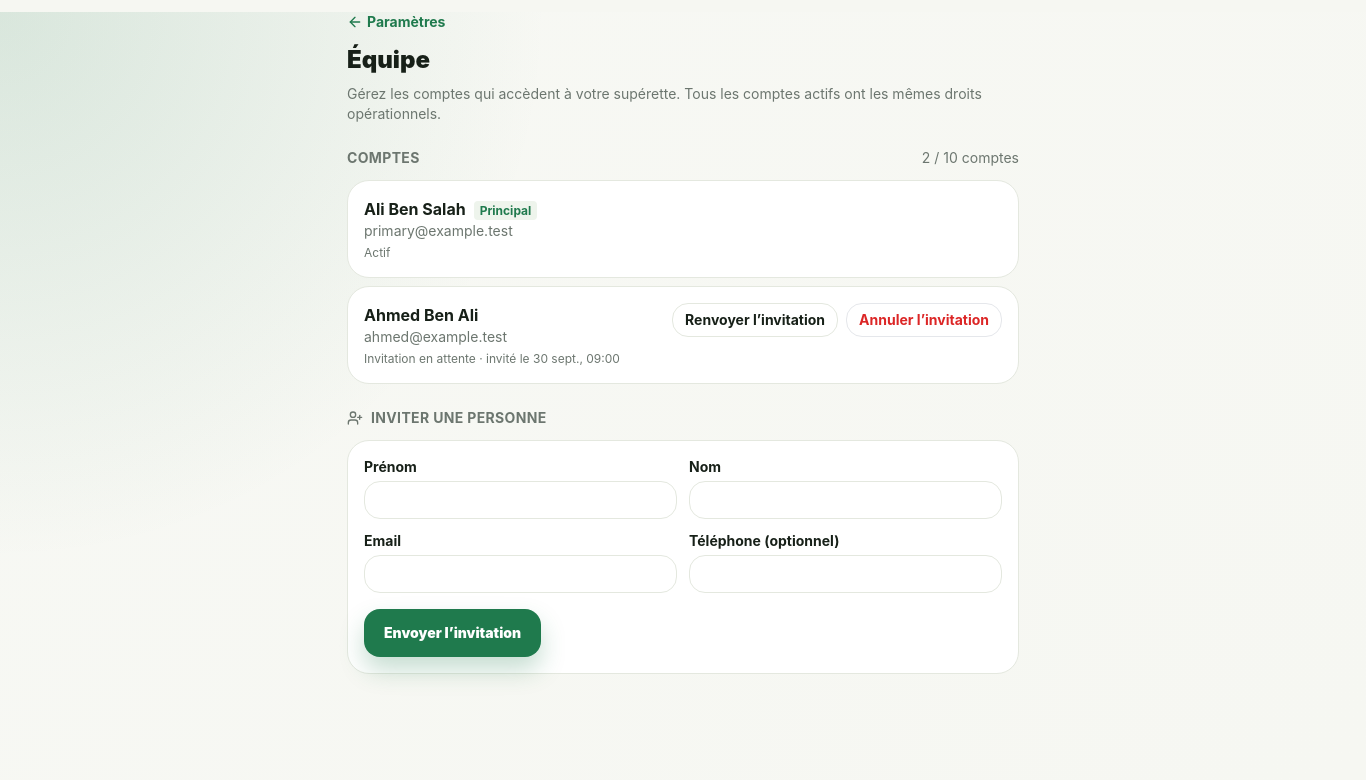
Scenario: MerchantTeamPage (MERCHANT-TEAM-006) › affiche les erreurs métier email utilisé et quota atteint
The image size is (1366, 780).
Expected: the text "Ali Ben Salah" is shown, [364,199,466,219]
In the field labelled "Prénom": [520, 500] box [364,481,677,519], type "Noura"
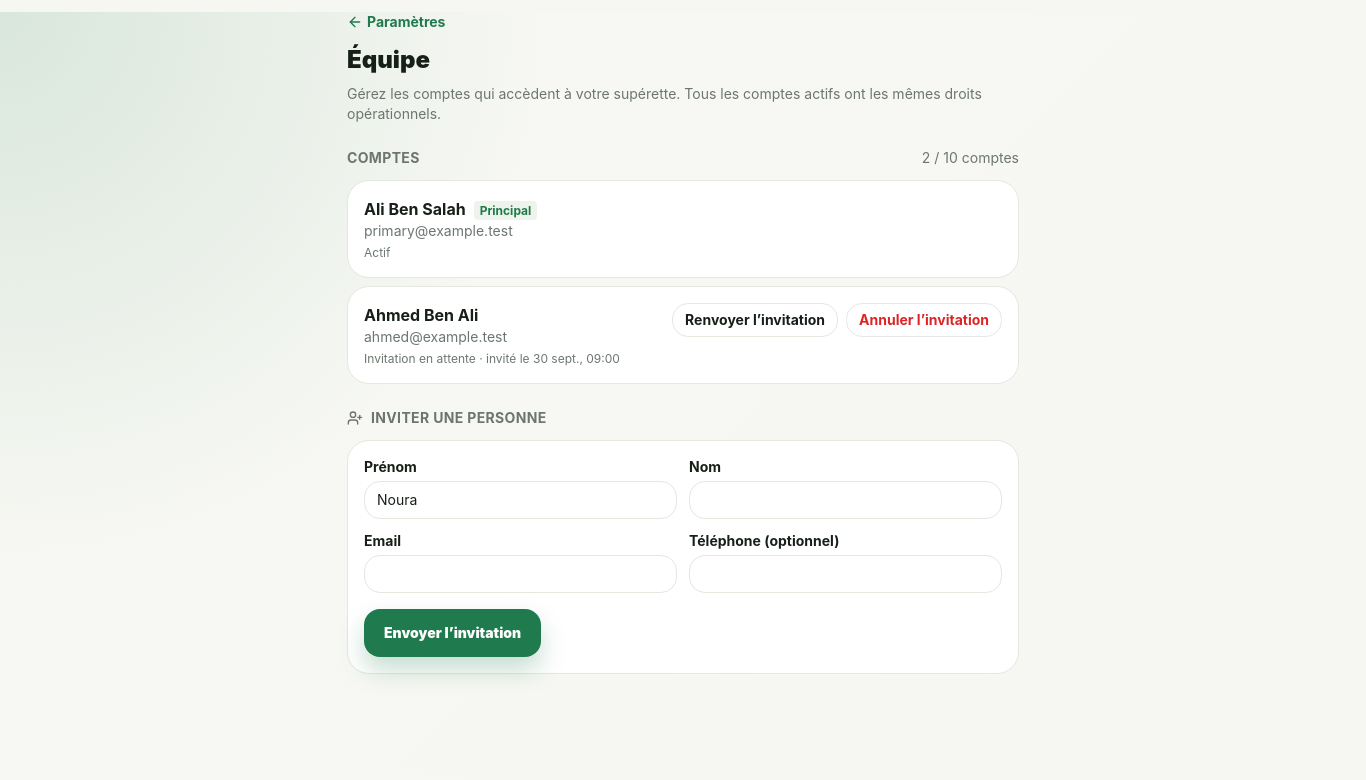
In the field labelled "Nom": [846, 500] box [689,481,1002,519], type "Trabelsi"
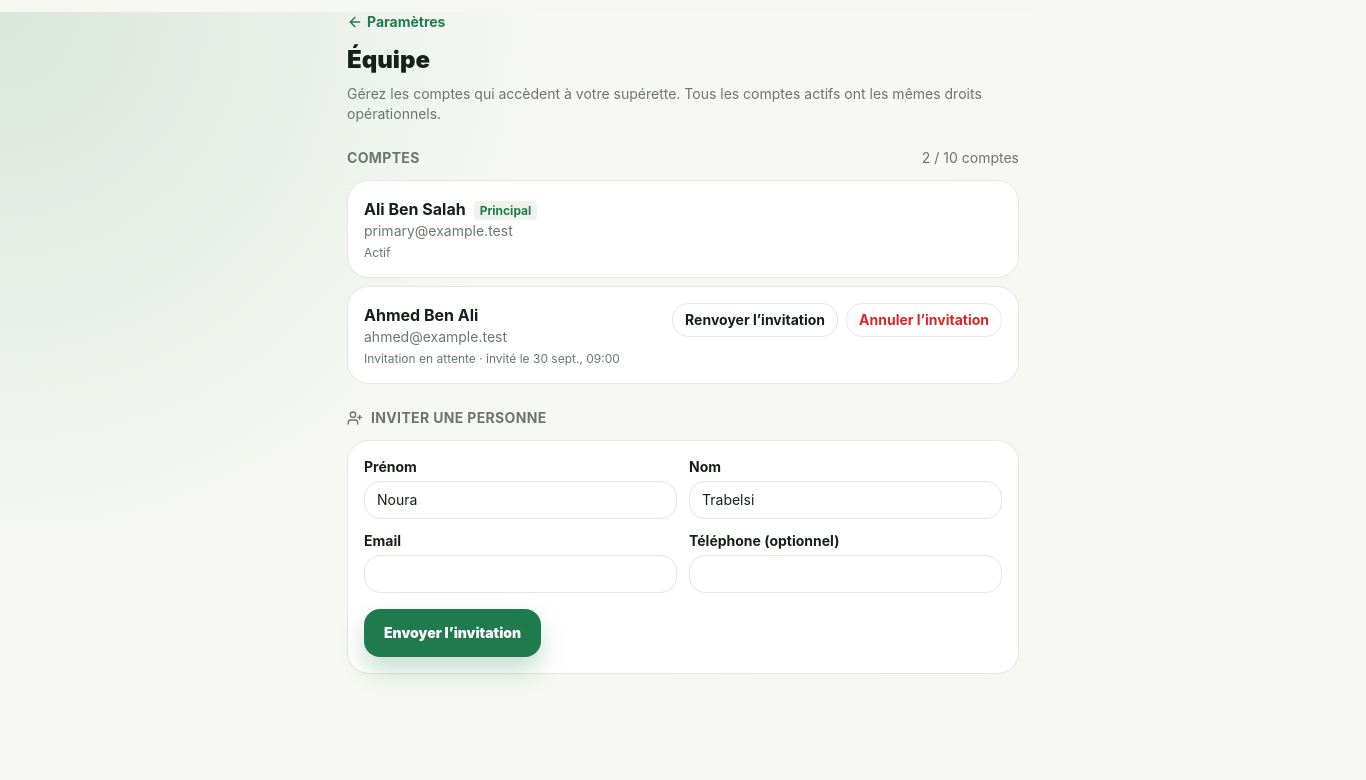
In the field labelled "Email": [520, 574] box [364,555,677,593], type "noura@example.test"
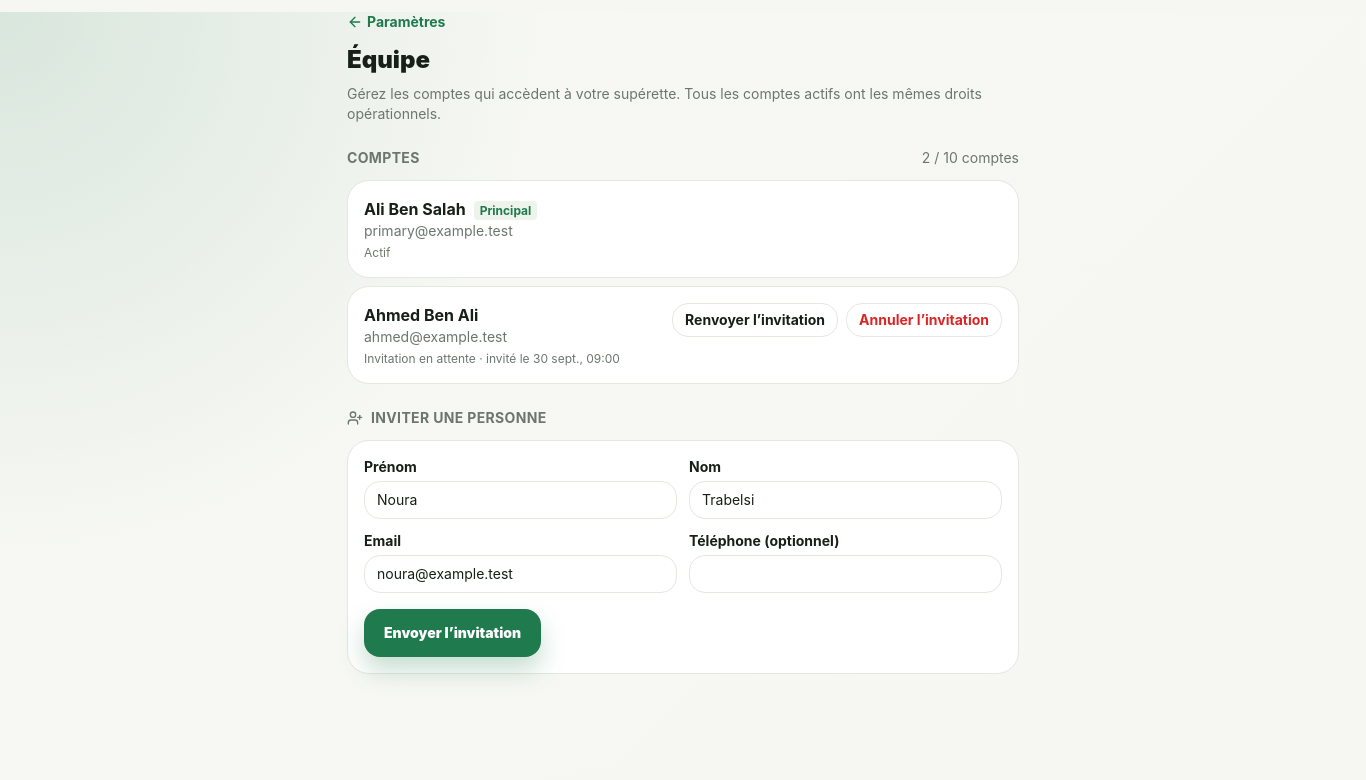
Click the button "Envoyer l’invitation": [453, 633] box [364,609,541,657]
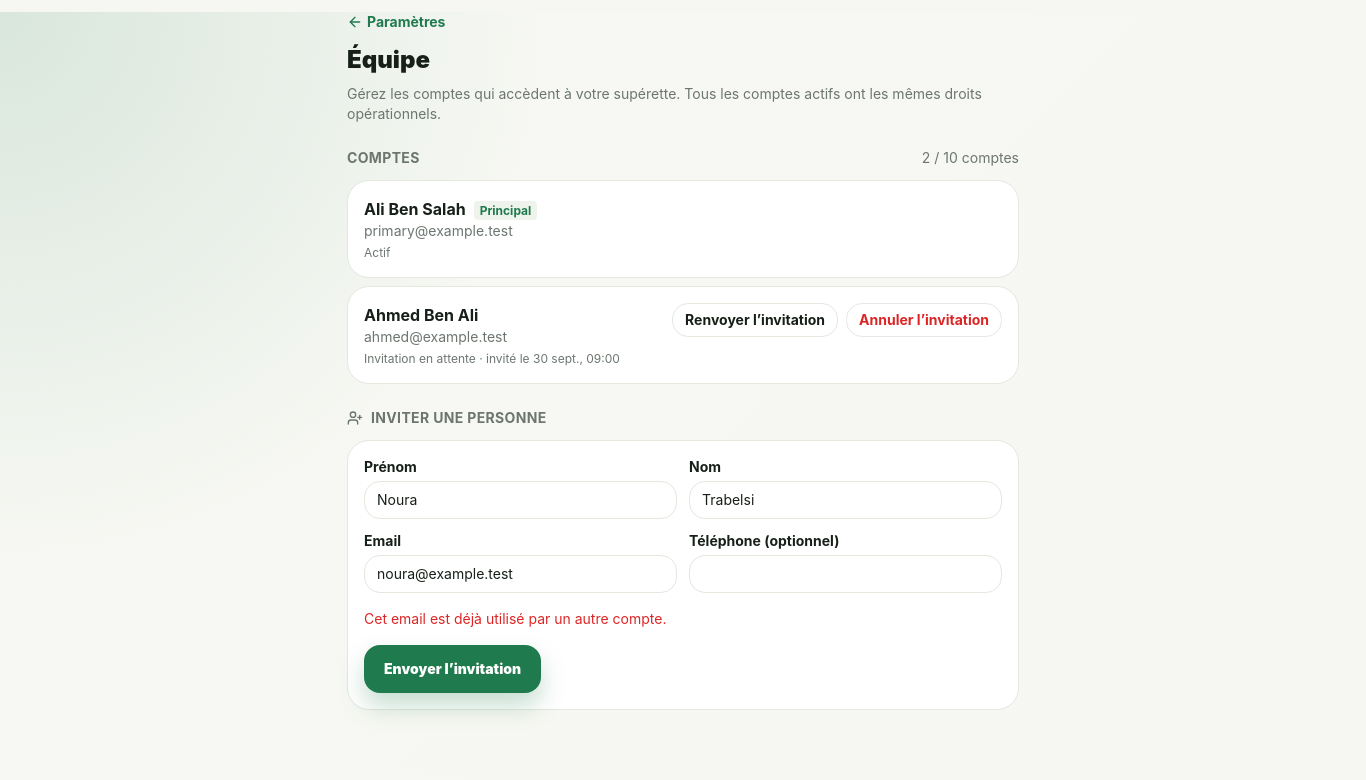
Result: the text "Cet email est déjà utilisé par un autre compte." is shown at [364,610,666,627]
Click the button "Envoyer l’invitation": [453, 669] box [364,645,541,693]
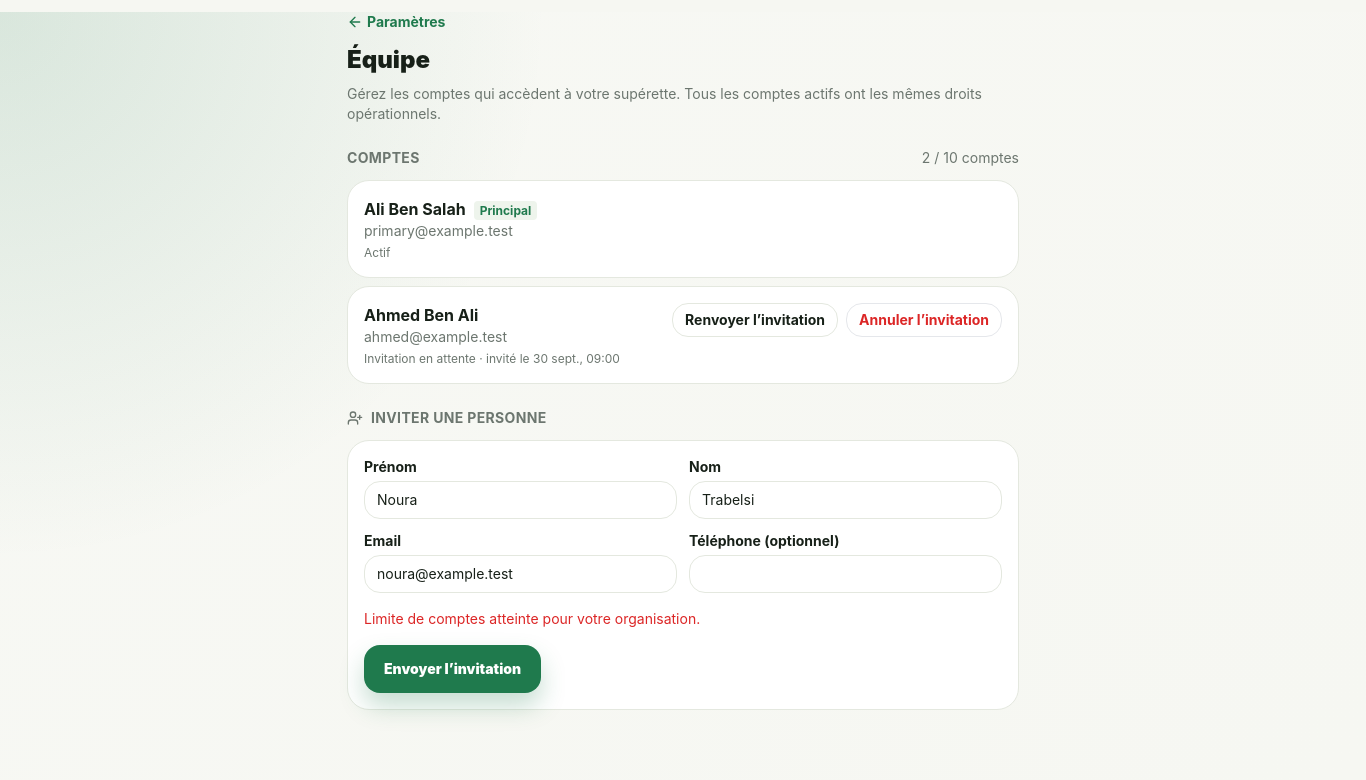
Result: the text "Limite de comptes atteinte pour votre organisation." is shown at [364,610,700,627]
